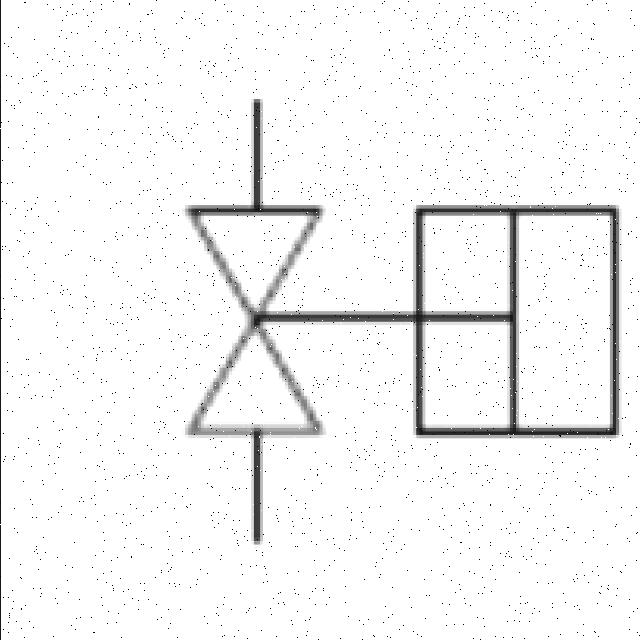Rotary Piston-Pneumatic Gate Valve: (158, 137, 630, 480)
